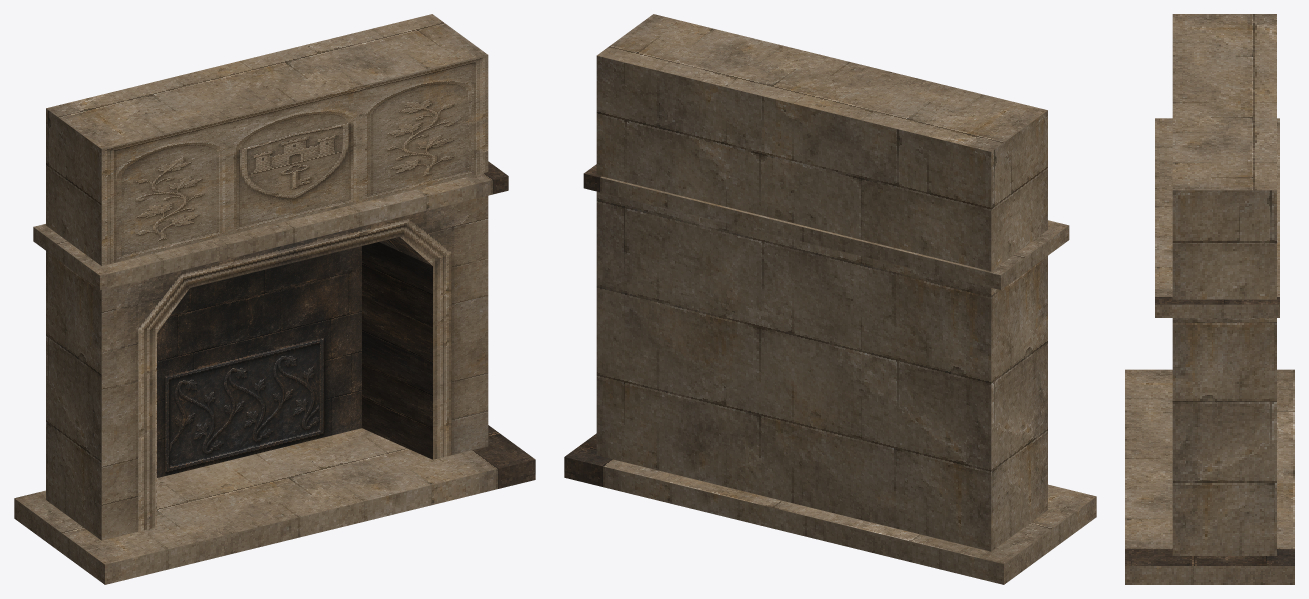
Rendered from level_castle_great_fireplace.glb.
3 renders of one model, left to right at view 1: azimuth 30°, elevation 25°; view 2: azimuth 150°, elevation 25°; view 3: azimuth 270°, elevation 25°, orthographic. The views are drawn at different scales.
Parts seen in each view (by area): view 1: Castle fireplace / real backed opening and supported mantel; view 2: Castle fireplace / real backed opening and supported mantel; view 3: Castle fireplace / real backed opening and supported mantel.
Boxes of the visible parts, left/top/right/bottom form: Castle fireplace / real backed opening and supported mantel: left=14, top=14, right=535, bottom=584; Castle fireplace / real backed opening and supported mantel: left=564, top=14, right=1096, bottom=584; Castle fireplace / real backed opening and supported mantel: left=1125, top=14, right=1294, bottom=584.
Size of the model in its own units: 3.12 by 2.85 by 1.14.
Materials: 1 (1 with a texture image).
